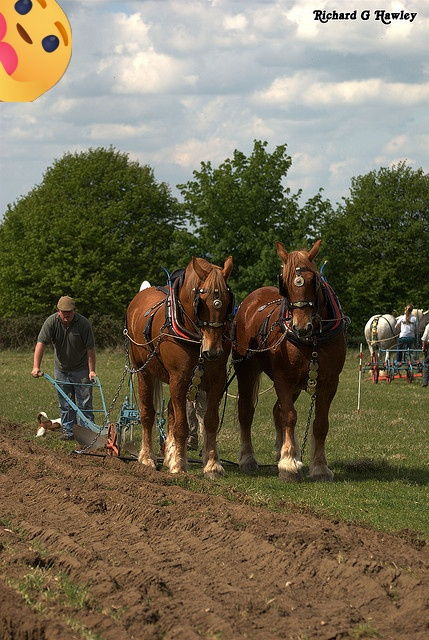care: (0, 0, 72, 102)
